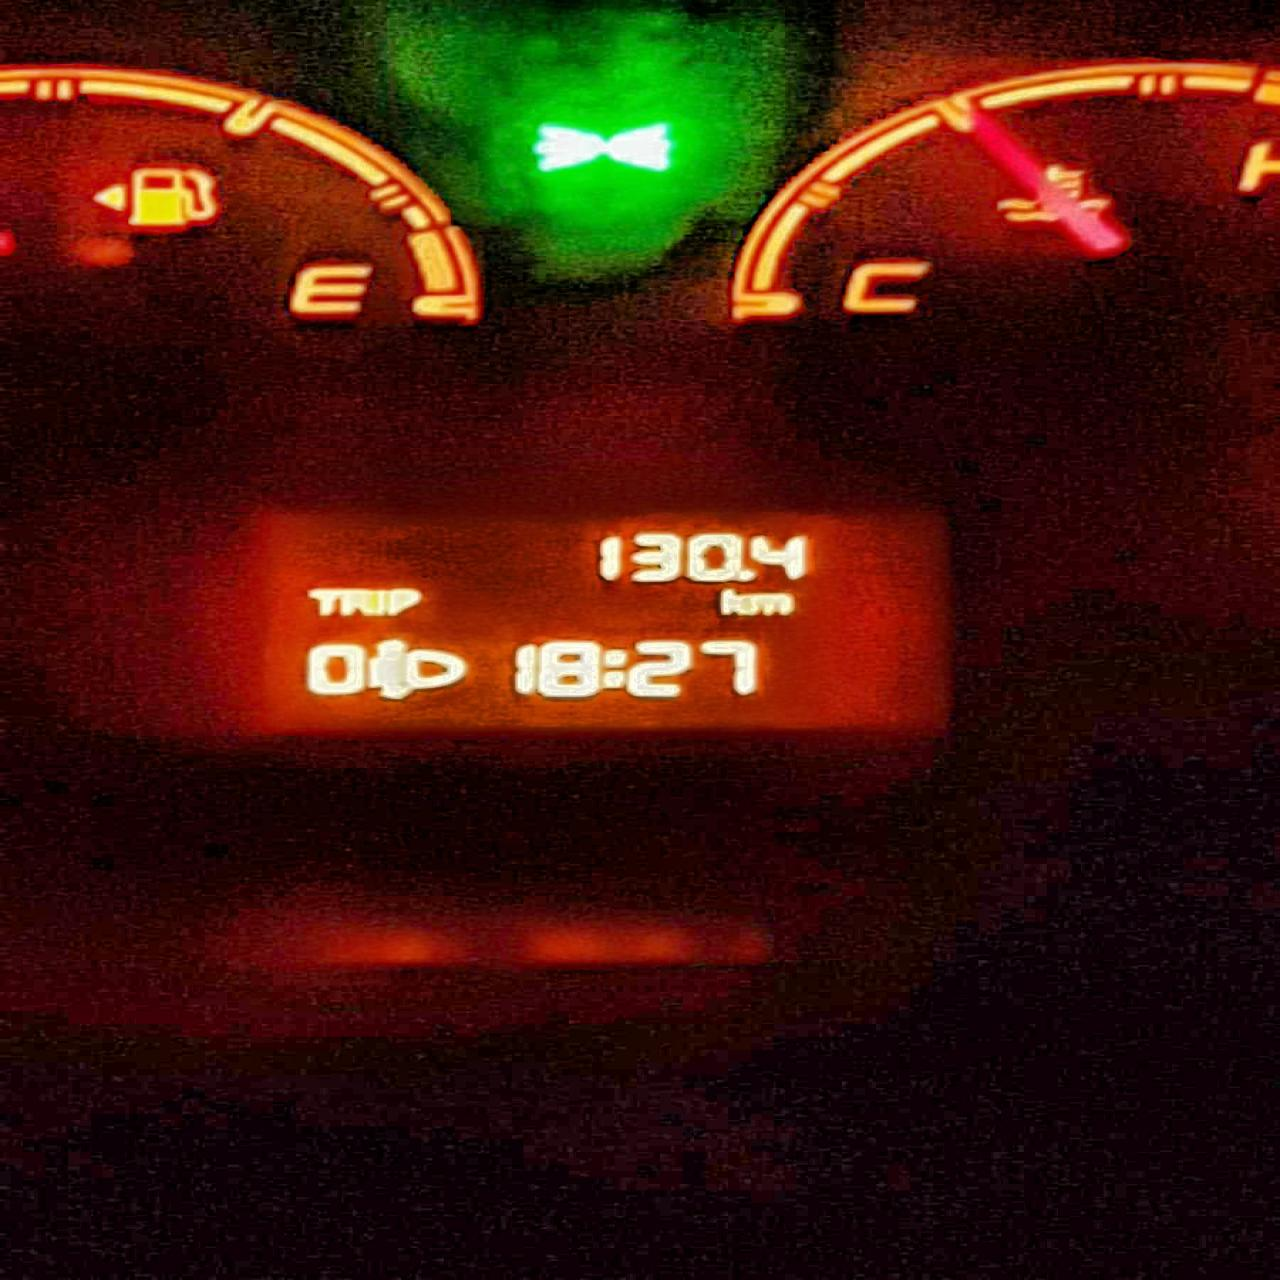-: (735, 568, 757, 581)
0: (302, 642, 366, 694), (683, 532, 742, 583)
1: (512, 642, 538, 696), (597, 536, 620, 580)
2: (625, 639, 693, 696)
3: (627, 532, 682, 581)
4: (745, 535, 806, 580)
7: (699, 639, 757, 694)
8: (538, 639, 600, 696)
X: (599, 648, 627, 689), (306, 587, 341, 617), (338, 587, 373, 617), (748, 592, 794, 614), (386, 586, 420, 615), (719, 587, 748, 614), (372, 588, 387, 617)
odometer: (247, 504, 955, 737)
